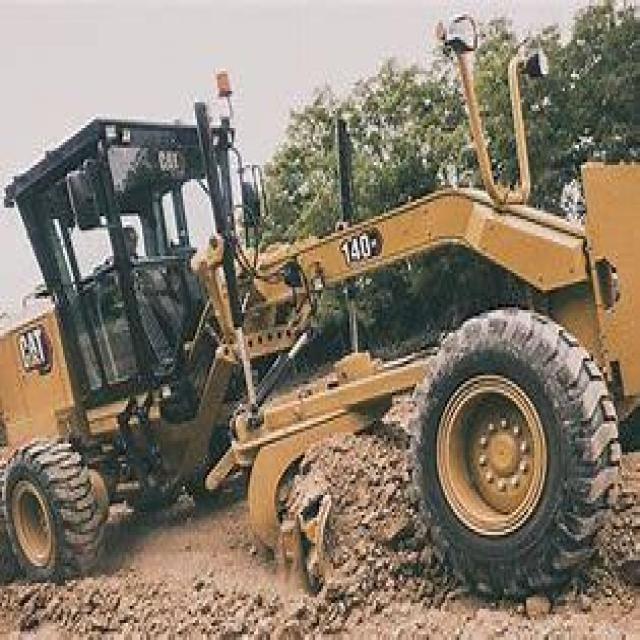Grader: (16, 68, 638, 603)
